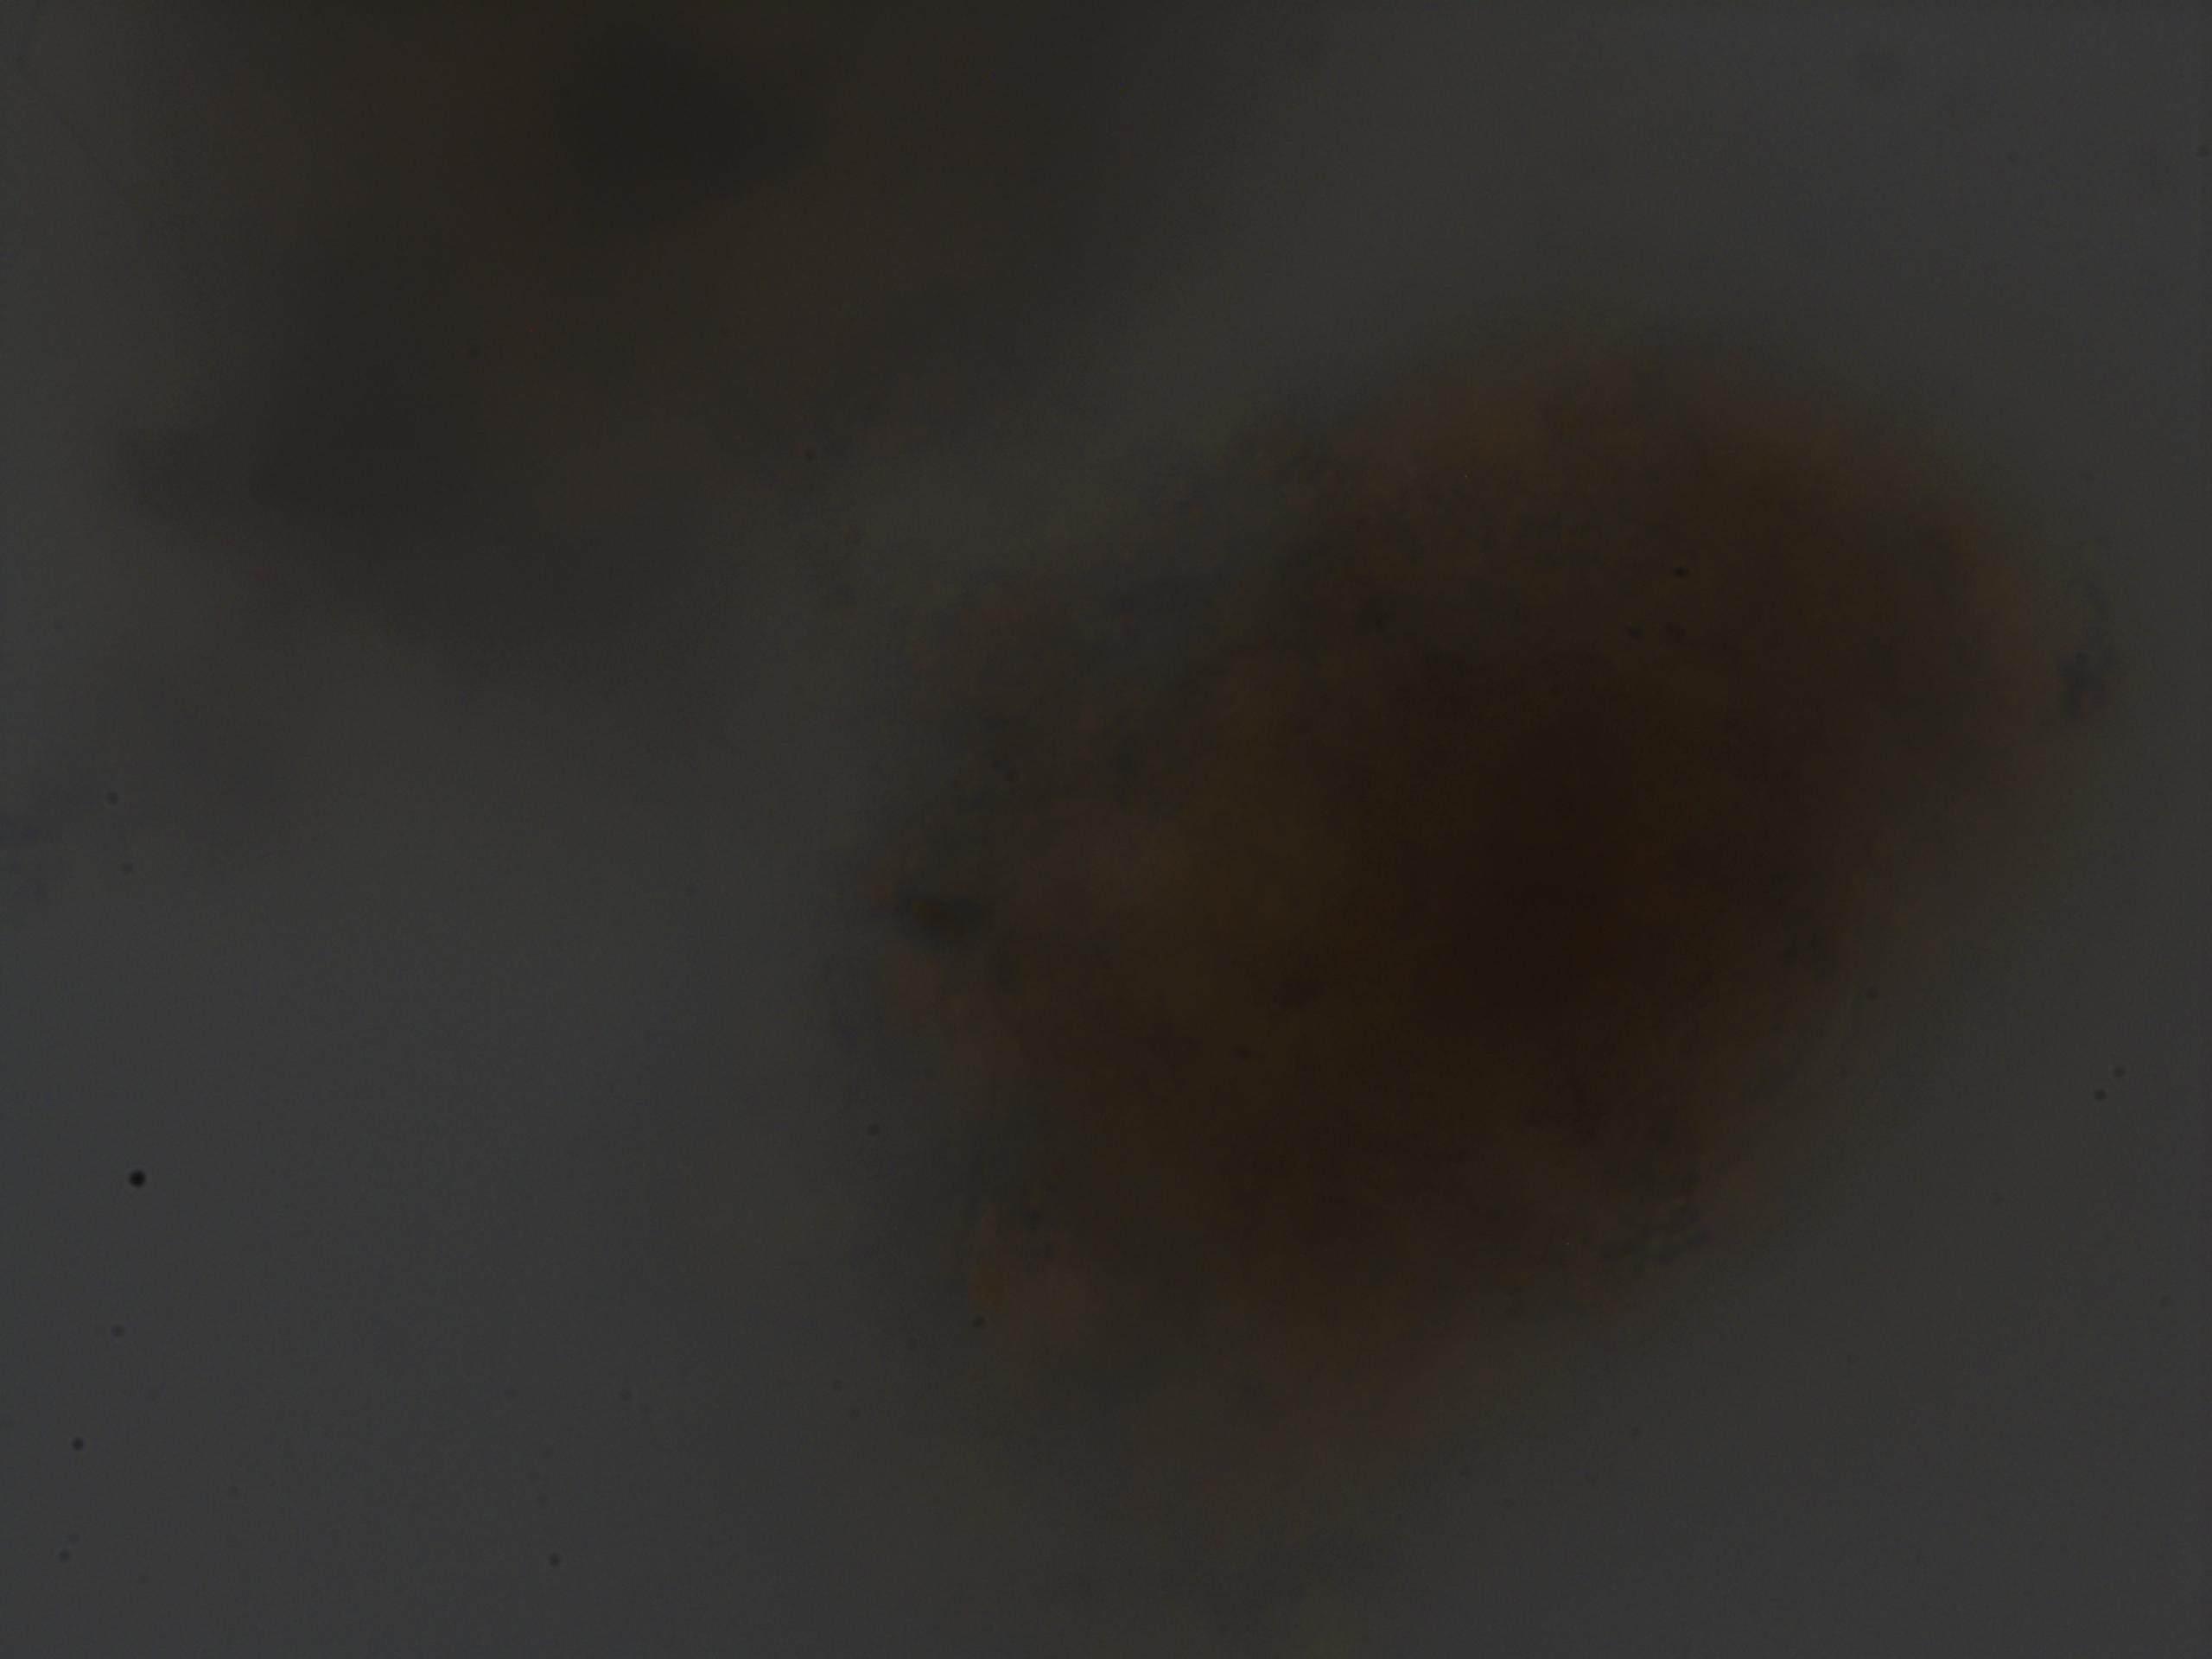spherical_floc: (864, 321, 2092, 1457)
